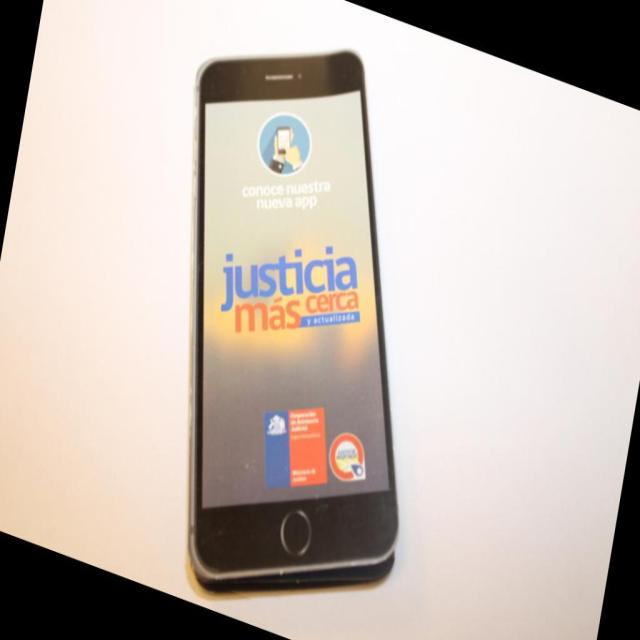handphone: (189, 56, 392, 595)
